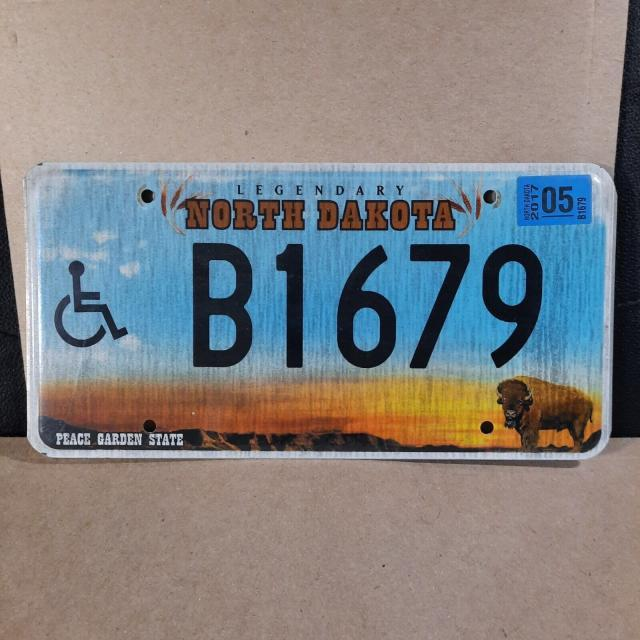symbol_of_access: (49, 258, 139, 351)
